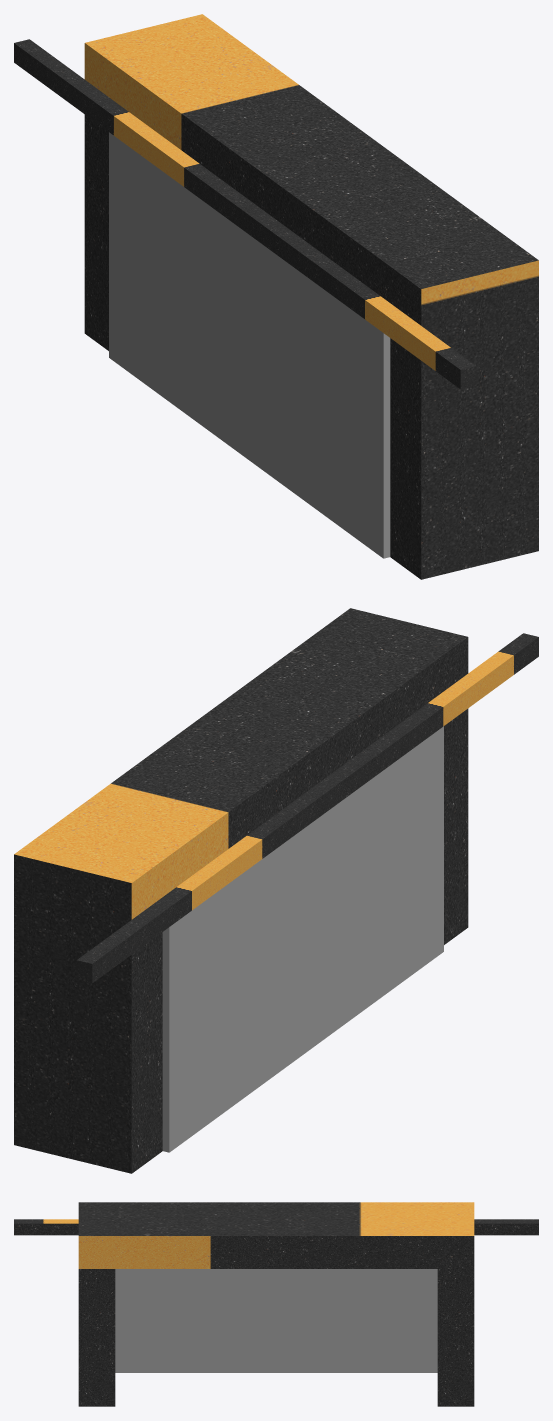
Rendered from Entrance.fbx.
The picture shows the model from 3 angles, top to bottom: view 1: azimuth 30°, elevation 25°; view 2: azimuth 150°, elevation 25°; view 3: azimuth 270°, elevation 25°; orthographic projection. The views are drawn at different scales.
Visible parts, largest first — view 1: Entrance, Door_L, Door_R; view 2: Entrance, Door_R, Door_L; view 3: Entrance, Door_L, Door_R.
Boxes of the visible parts, box(x1,y1,x2,y2) form: Entrance: box(14, 14, 538, 579); Door_L: box(246, 233, 390, 558); Door_R: box(109, 132, 246, 457); Entrance: box(14, 608, 538, 1173); Door_R: box(162, 827, 306, 1152); Door_L: box(306, 726, 443, 1051); Entrance: box(14, 1202, 538, 1406); Door_L: box(115, 1269, 276, 1372); Door_R: box(276, 1269, 437, 1372).
Bounding box in the file's own units: 132 × 276 × 767.
